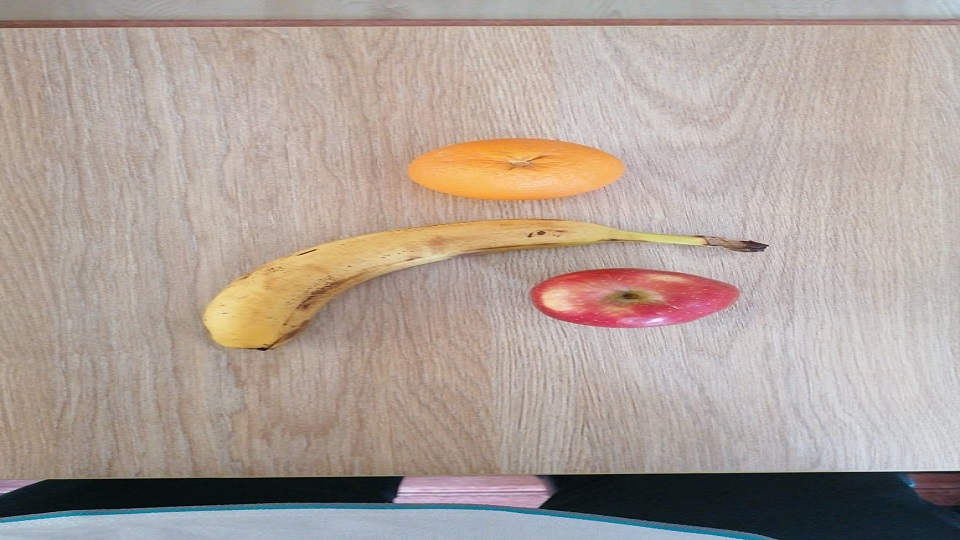elma: (530, 267, 741, 329)
muz: (200, 217, 770, 350)
portakal: (407, 138, 626, 201)
